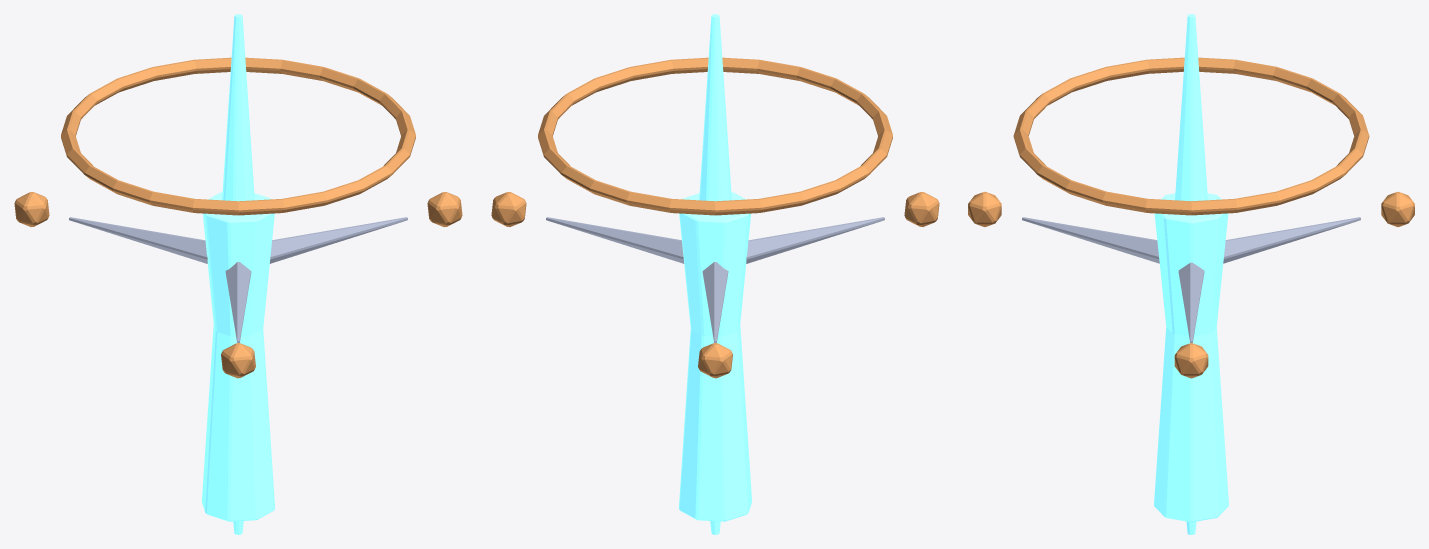
The model's file is SM_EmberRelay.fbx.
3 views of the same model, side by side, from view 1: azimuth 30°, elevation 25°; view 2: azimuth 150°, elevation 25°; view 3: azimuth 270°, elevation 25° (orthographic).
Parts seen in each view (by area): view 1: SM_EmberRelay; view 2: SM_EmberRelay; view 3: SM_EmberRelay.
Part boxes in pixels (x1,y1,x2,y2): SM_EmberRelay: [14, 14, 462, 534]; SM_EmberRelay: [491, 14, 939, 534]; SM_EmberRelay: [968, 14, 1414, 534].
Bounding box in the file's own units: 509 × 671 × 524.
